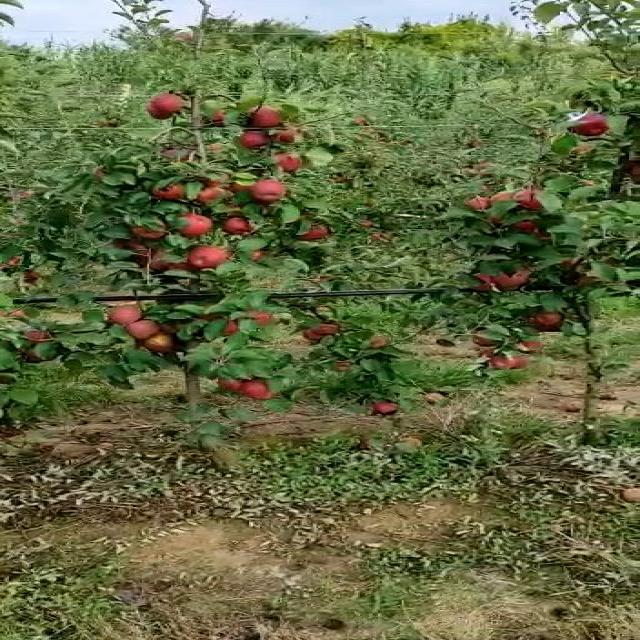100-_ripeness: (568, 112, 606, 138), (178, 214, 215, 240), (244, 104, 284, 128), (187, 247, 235, 267), (147, 92, 185, 117), (247, 179, 284, 202), (131, 249, 169, 271), (494, 272, 542, 289), (129, 217, 166, 239), (242, 375, 274, 400), (511, 188, 549, 208), (240, 129, 271, 153), (218, 371, 246, 393), (153, 181, 187, 199), (108, 308, 148, 323), (496, 352, 529, 370), (125, 319, 156, 338), (460, 274, 495, 290), (222, 219, 253, 236), (274, 126, 304, 143), (246, 308, 274, 326), (146, 334, 174, 351), (534, 313, 564, 328), (294, 226, 331, 238), (202, 186, 227, 203), (467, 194, 491, 211), (491, 191, 516, 206), (316, 322, 342, 336), (278, 153, 295, 173), (375, 401, 398, 414), (362, 337, 385, 348), (516, 220, 534, 234), (27, 330, 49, 341), (331, 360, 349, 371)
